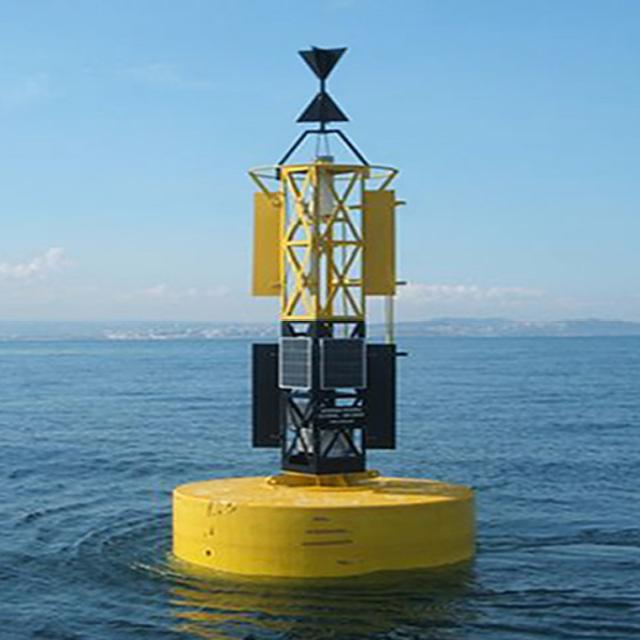buoy: (160, 32, 489, 577)
